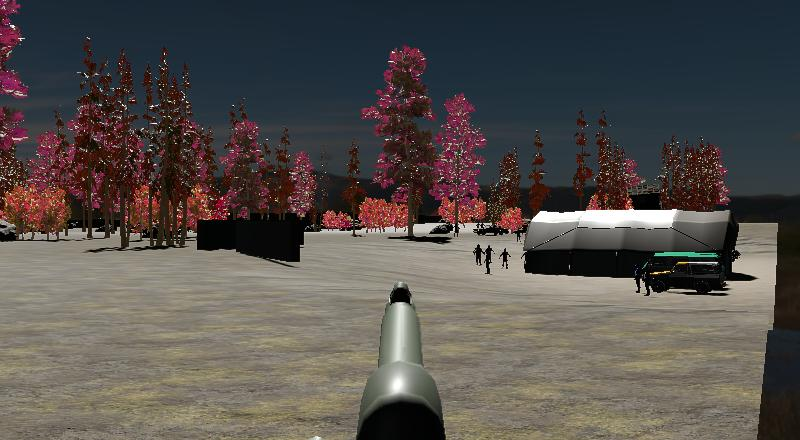Human: (482, 241, 496, 272), (470, 240, 484, 268)
car: (641, 258, 726, 297), (472, 220, 507, 237)
